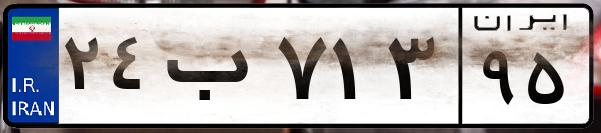1: (330, 28, 385, 110)
2: (57, 26, 110, 100)
3: (385, 28, 445, 110)
4: (110, 28, 158, 98)
5: (525, 38, 570, 115)
7: (270, 28, 330, 110)
9: (475, 38, 525, 113)
ب: (158, 20, 270, 120)
